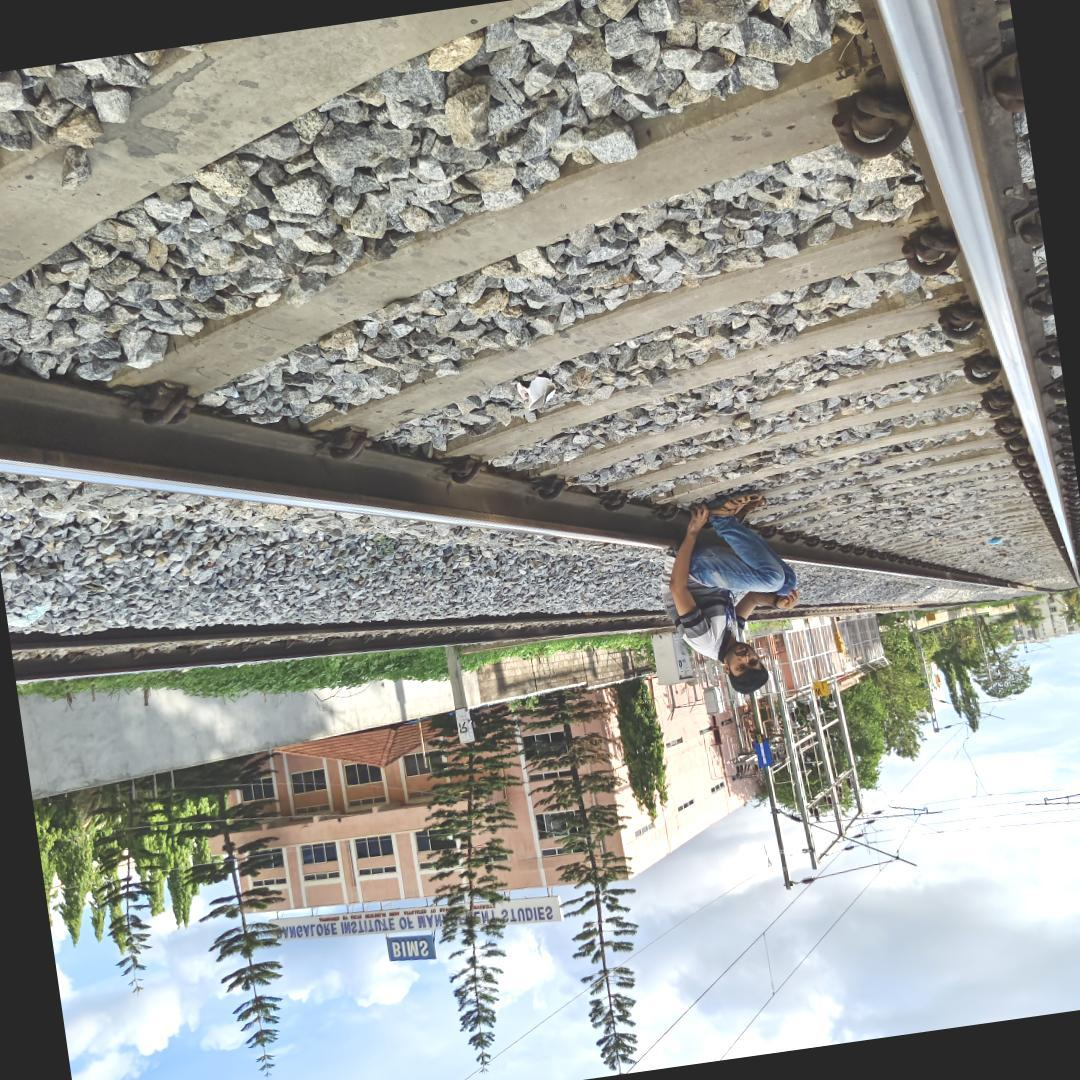sitting: (654, 486, 810, 694)
